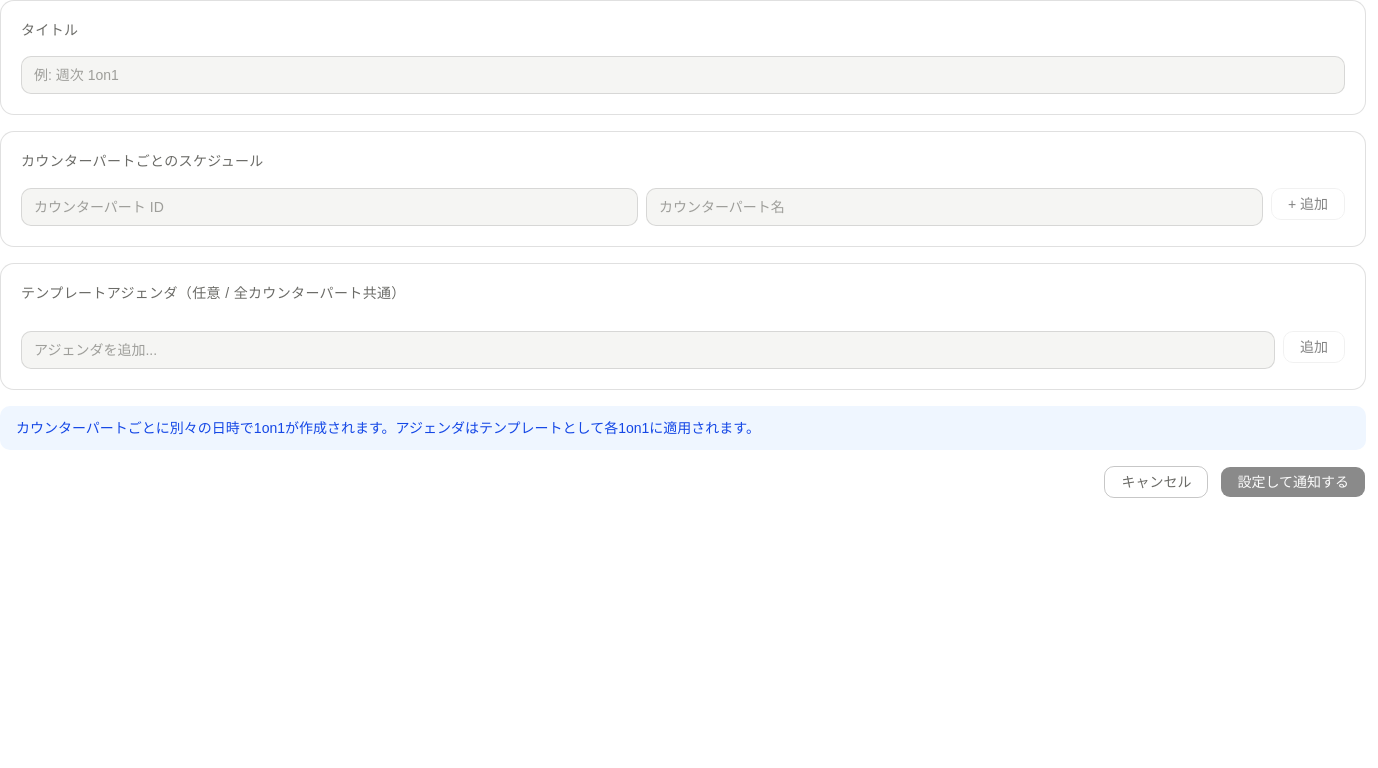
Test case: ScheduleGroupForm › allows adding a counterpart
Type "user-123" into the field with placeholder "カウンターパート ID" at (330, 206), box [21,188,638,226]
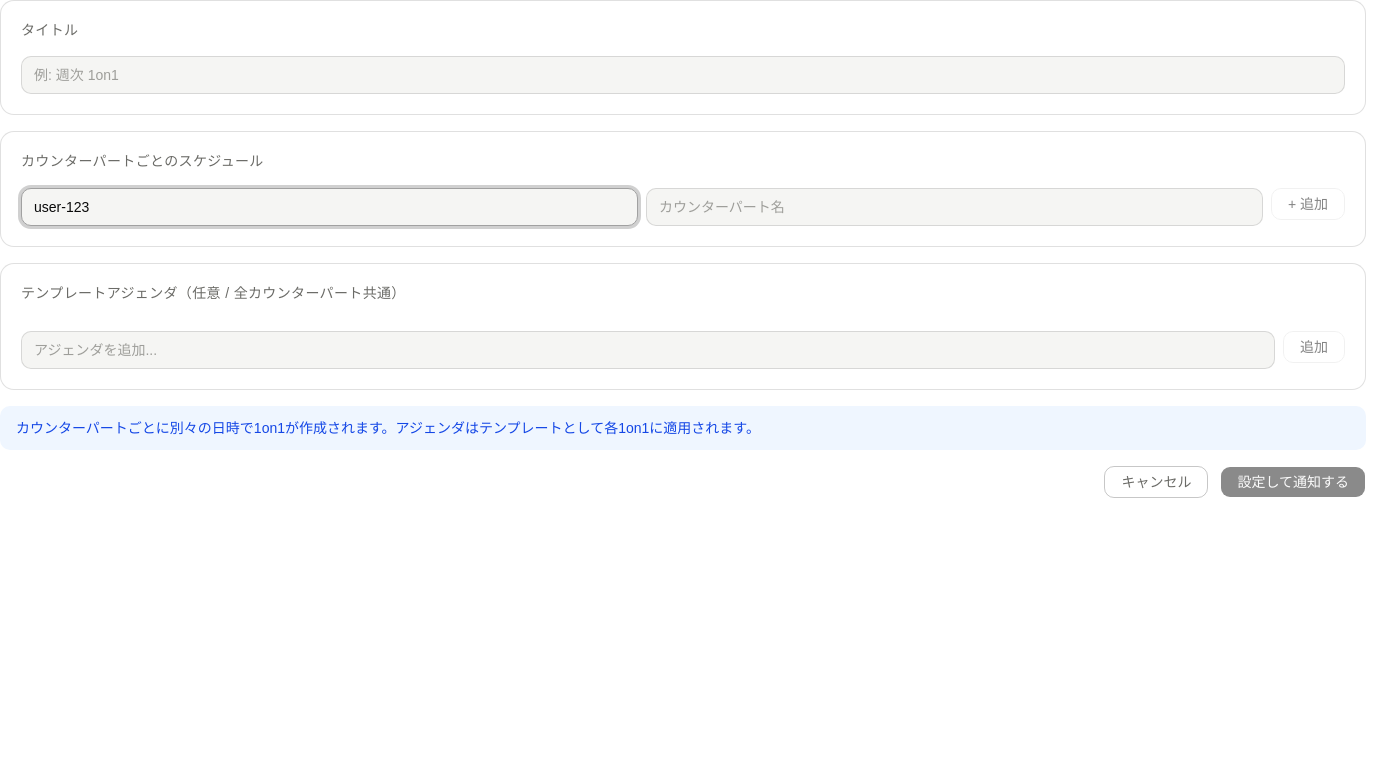
Type "田中 太郎" into the field with placeholder "カウンターパート名" at (954, 206), box [646,188,1263,226]
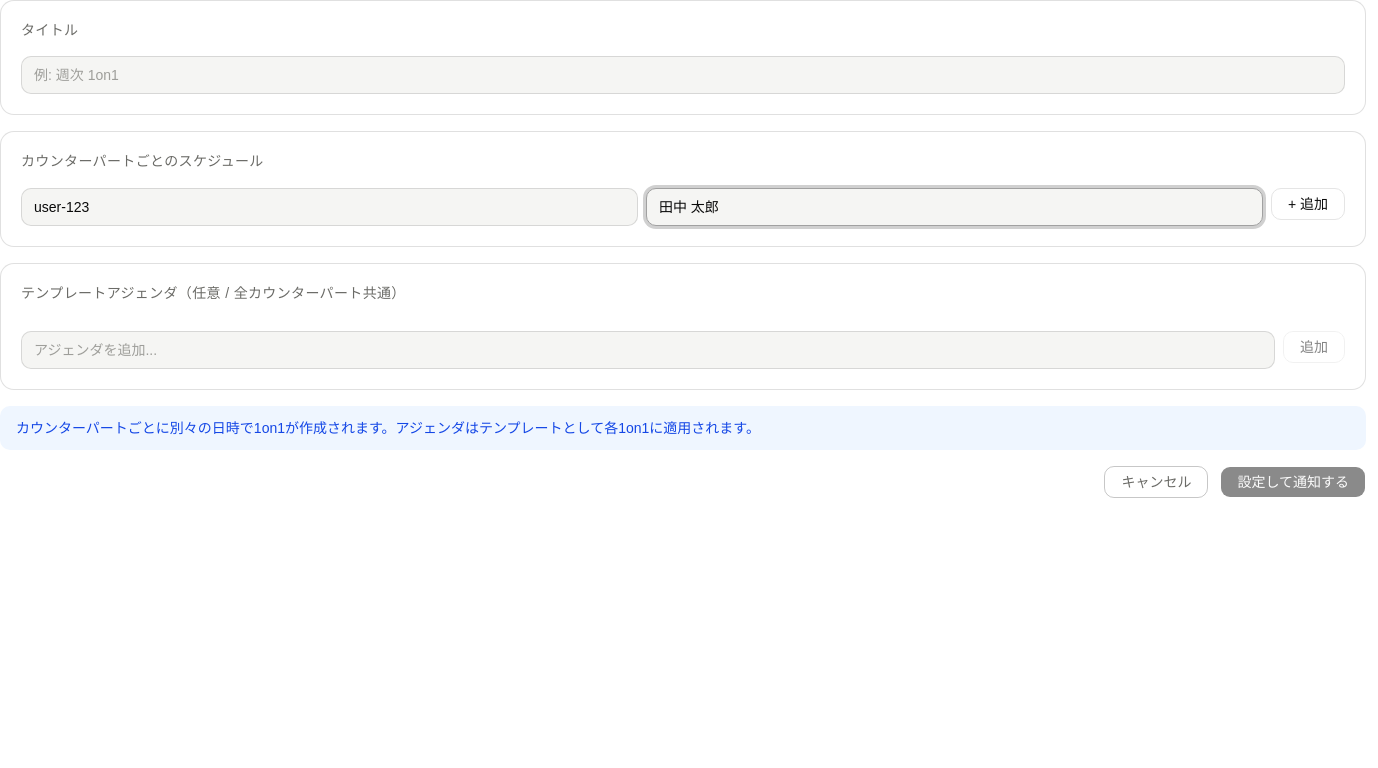
Click the button "+ 追加" at (1308, 204), box [1271,188,1345,220]
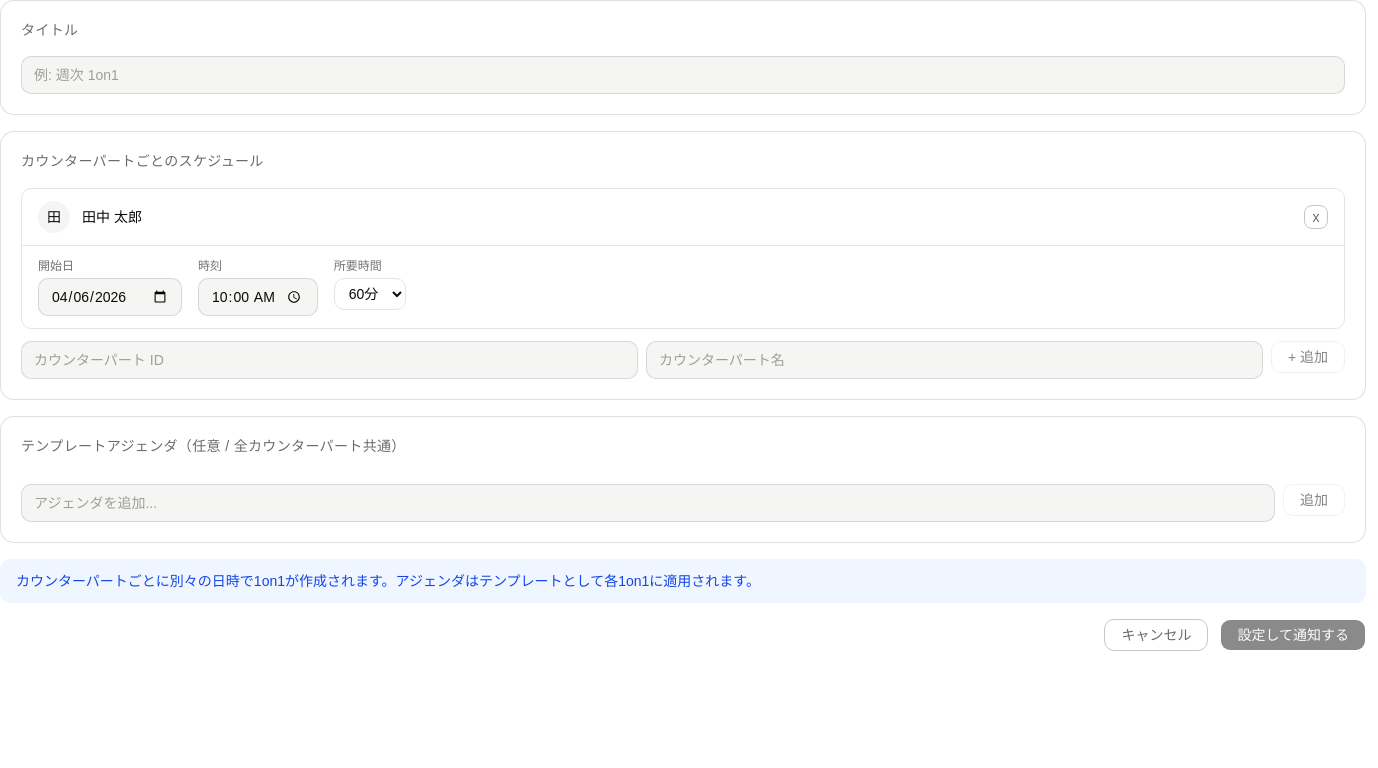
Check: the text "田中 太郎" is shown, box [82,208,142,224]
